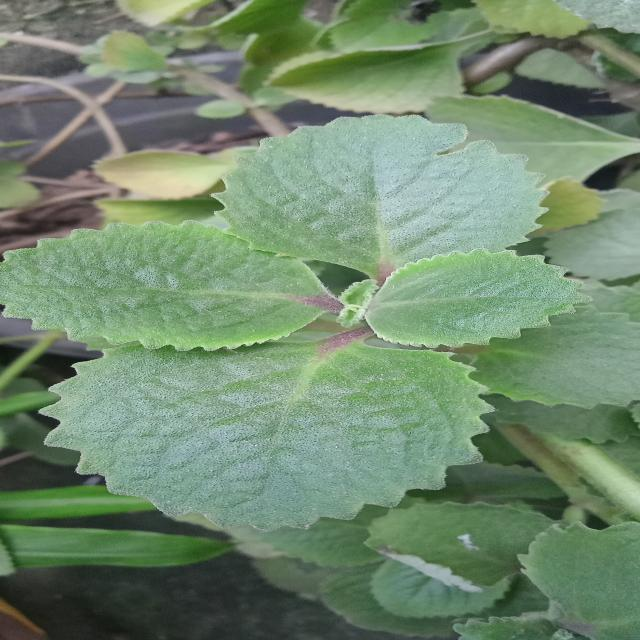Oregano: (42, 183, 606, 448)
